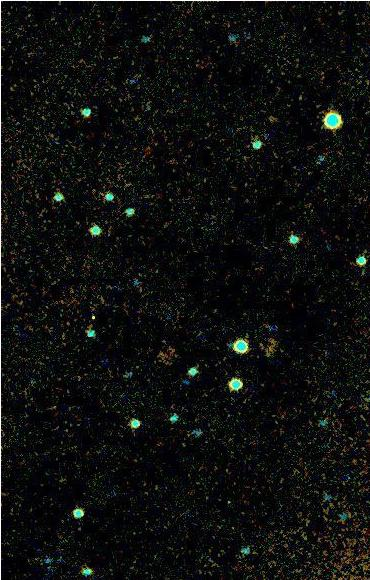star: (257, 103, 287, 133)
